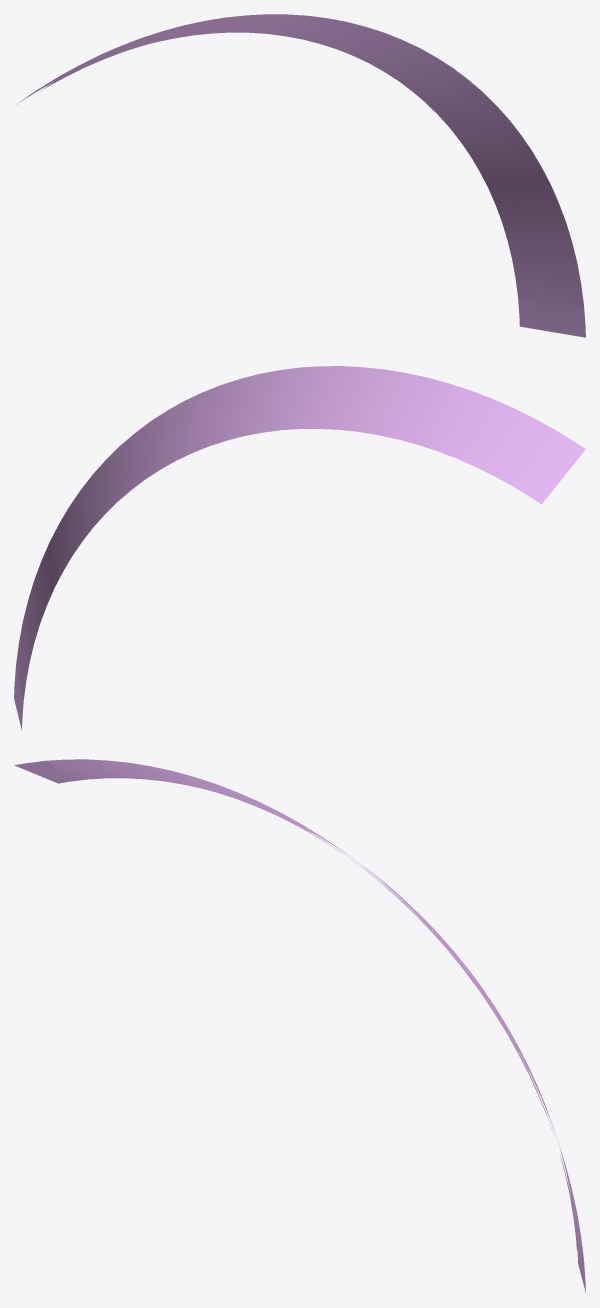
Rendered from Mesh_Note_19.fbx.
3 views of the same model, one above another, from view 1: azimuth 30°, elevation 25°; view 2: azimuth 150°, elevation 25°; view 3: azimuth 330°, elevation 25° (orthographic). The views are drawn at different scales.
Parts seen in each view (by area): view 1: Mesh_Note_19; view 2: Mesh_Note_19; view 3: Mesh_Note_19.
Part boxes in pixels (x1,y1,x2,y2): Mesh_Note_19: (16, 14, 585, 337); Mesh_Note_19: (14, 366, 585, 730); Mesh_Note_19: (14, 759, 585, 1292).
Bounding box in the file's own units: 2.46 × 1.74 × 0.2236.
